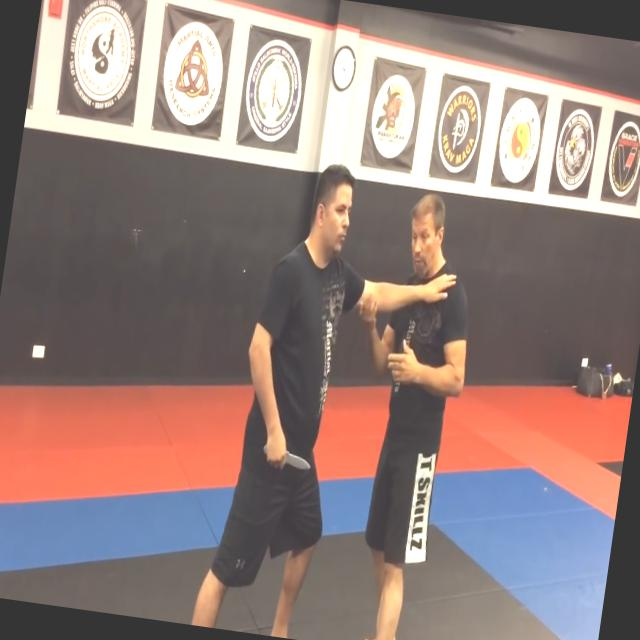knife: (258, 438, 314, 477)
